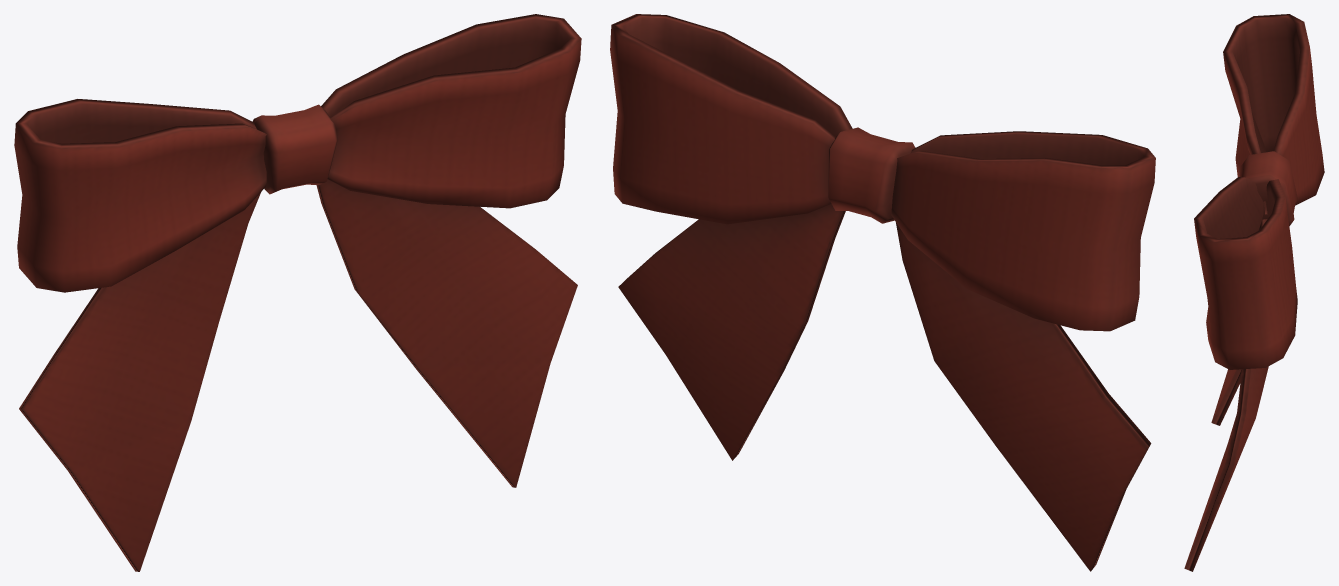
The model's file is ChristmasRoom_Ribbon.fbx.
3 views of the same model, side by side, from view 1: azimuth 30°, elevation 25°; view 2: azimuth 150°, elevation 25°; view 3: azimuth 270°, elevation 25° (orthographic). The views are drawn at different scales.
Visible parts, largest first — view 1: ChristmasRoom_Ribbon; view 2: ChristmasRoom_Ribbon; view 3: ChristmasRoom_Ribbon.
Boxes of the visible parts, x1=… form: ChristmasRoom_Ribbon: x1=14, y1=14, x2=581, y2=571; ChristmasRoom_Ribbon: x1=610, y1=14, x2=1155, y2=571; ChristmasRoom_Ribbon: x1=1184, y1=14, x2=1324, y2=571.
Bounding box in the file's own units: 21.57 × 16.98 × 5.69.
